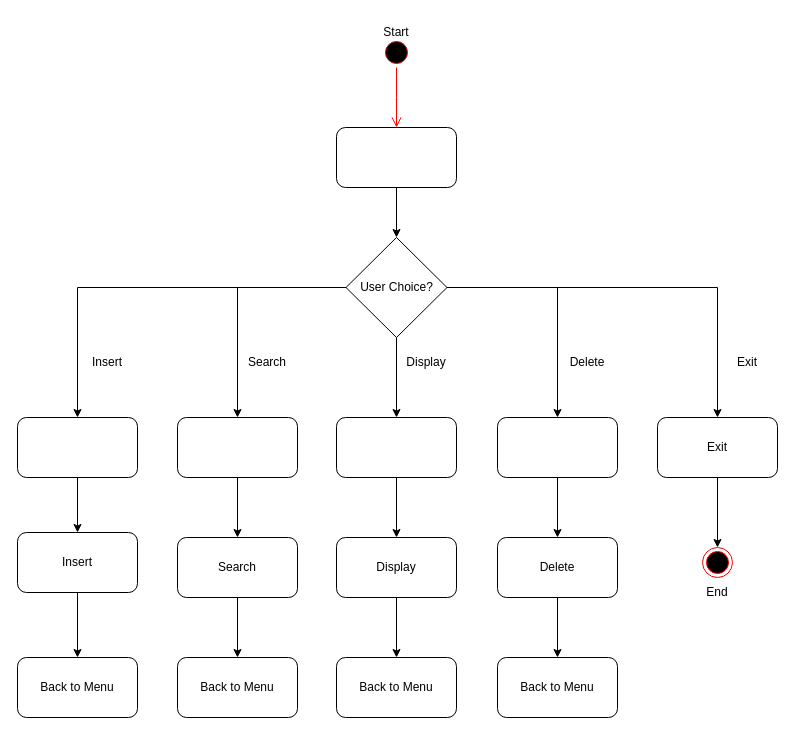
This 795x735 diagram has some shape labels left out. Each missing label, with the centre of its shape:
"Display All Students (Inorder Traversal)" goes at point 396,447.
"Display Menu (Insert / Search / Display / Delete / Exit)" goes at point 396,157.
"Enter ID Enter Name Enter Grade Insert into AVL Tree" goes at point 77,447.
"Enter Student ID Delete from AVL Tree" goes at point 557,447.
"Enter Student ID Search AVL Tree Record Found?" goes at point 237,447.
